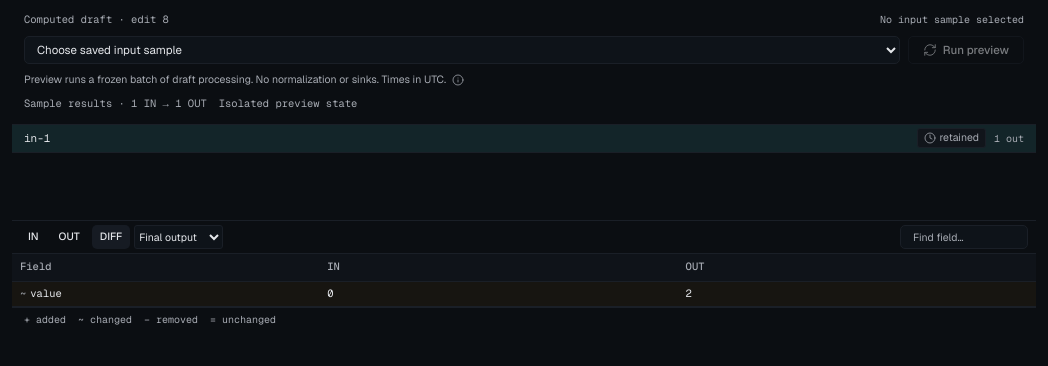
Test: Runtime preview outcomes › compares the previous step output with the selected step output and retains final output mode
Expected: the text "0" is shown, 319,282 -> 678,306
Select "Selected step" in the dropdown named "Preview stage" at (179, 236), box 134,224 -> 223,248
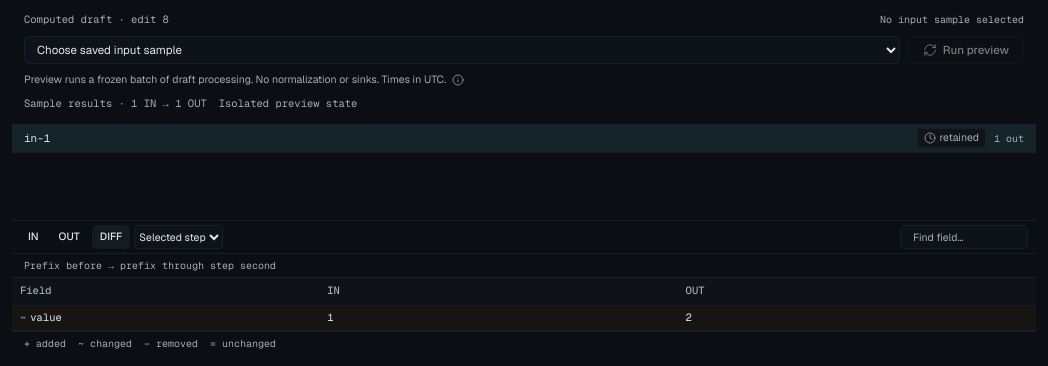
Expected: the text "1" is shown, 319,306 -> 678,330
Now the text "0" is gone
Now the text "Prefix before → prefix through step second" is shown, box 12,254 -> 1036,278
Select "Final output" in the dropdown named "Preview stage" at (179, 236), box 134,224 -> 223,248
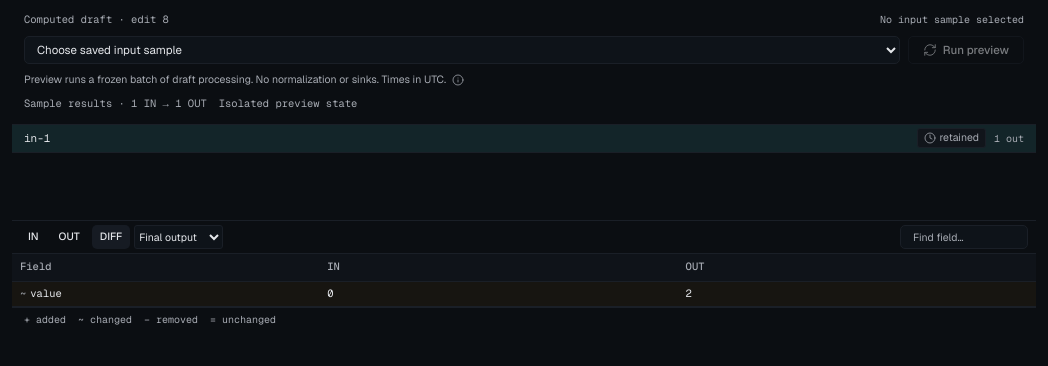
Now the text "0" is shown, box 319,282 -> 678,306
